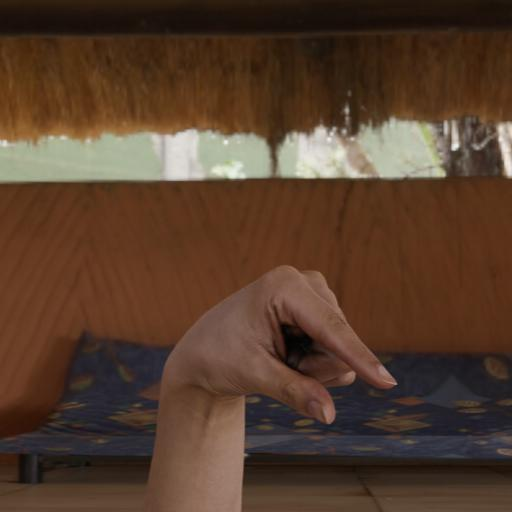Q: (144, 240, 400, 450)
